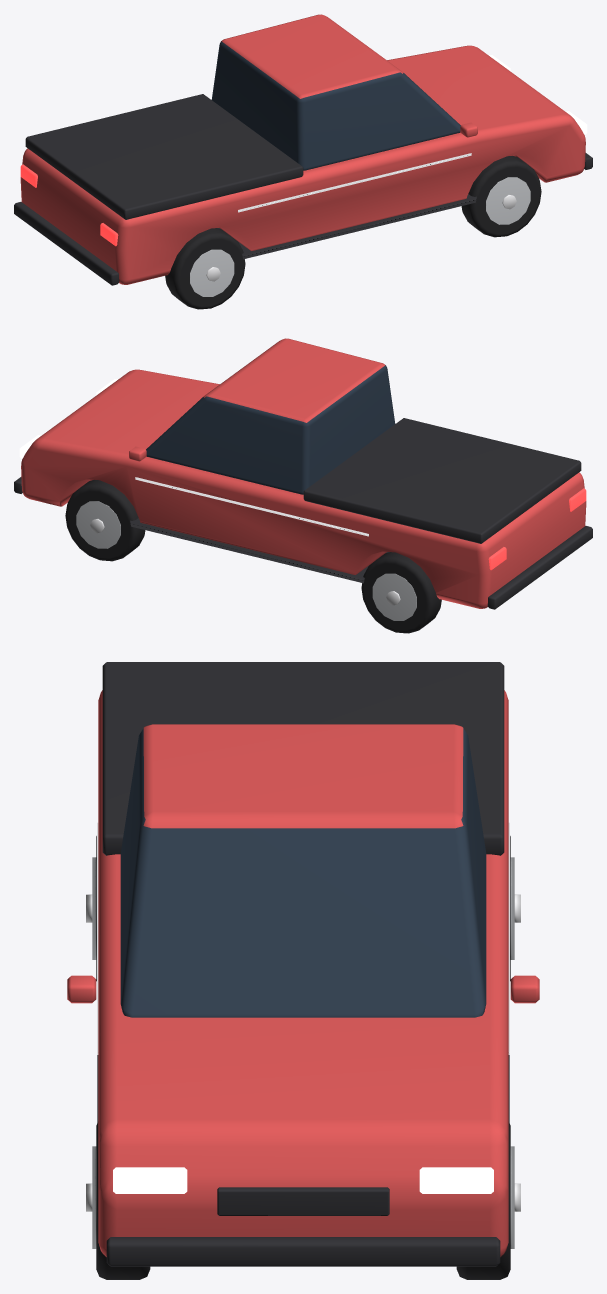
The model's file is rc-pickup.glb.
The picture shows the model from 3 angles, top to bottom: view 1: azimuth 30°, elevation 25°; view 2: azimuth 150°, elevation 25°; view 3: azimuth 270°, elevation 25°; orthographic projection. The views are drawn at different scales.
Parts seen in each view (by area): view 1: car_pickup; view 2: car_pickup; view 3: car_pickup.
Boxes of the visible parts, x1=… form: car_pickup: x1=14, y1=14, x2=592, y2=309; car_pickup: x1=14, y1=338, x2=592, y2=633; car_pickup: x1=67, y1=662, x2=539, y2=1279.
Size of the model in its own units: 5.38 by 1.94 by 2.28.
